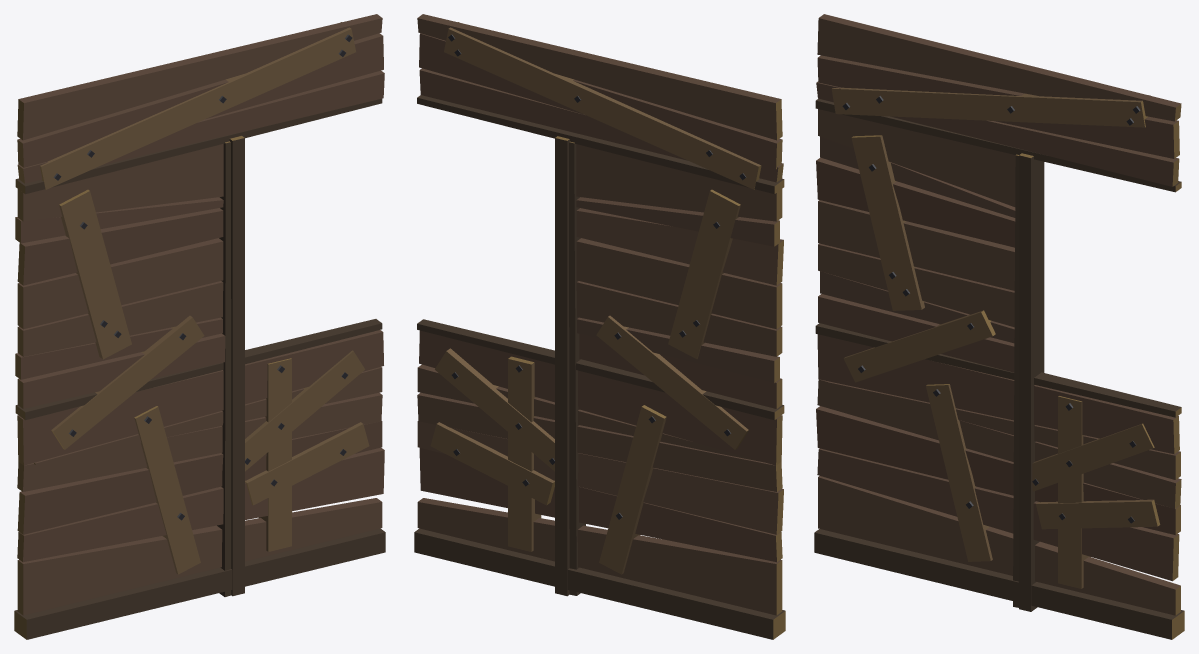
Rendered from Wall_1k_Door_4mx6m.fbx.
The picture shows the model from 3 angles, left to right: view 1: azimuth 30°, elevation 25°; view 2: azimuth 150°, elevation 25°; view 3: azimuth 330°, elevation 25°; orthographic projection.
Parts seen in each view (by area): view 1: pCube2417; view 2: pCube2417; view 3: pCube2417.
Boxes of the visible parts, box(x1,y1,x2,y2) form: pCube2417: box(14, 14, 385, 639); pCube2417: box(414, 14, 785, 639); pCube2417: box(814, 14, 1184, 639).
Bounding box in the file's own units: 401 × 575 × 25.41.
